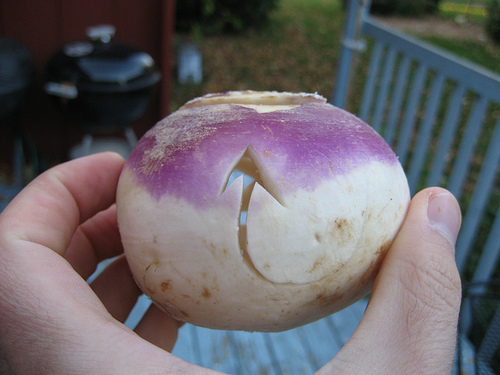turnip: (115, 88, 411, 334)
